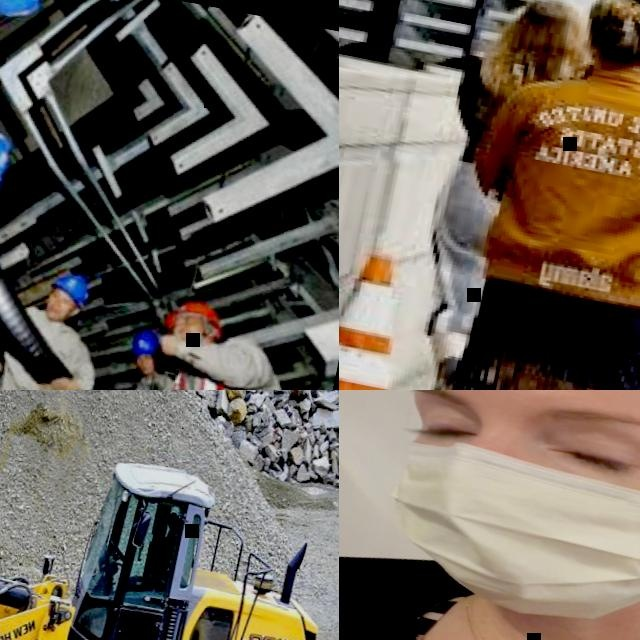Hardhat: (165, 297, 229, 338), (45, 270, 94, 311), (0, 0, 50, 24), (0, 121, 17, 183), (132, 331, 160, 361)
Mask: (372, 435, 640, 640)
NO-Hardhat: (507, 0, 581, 57), (592, 0, 640, 65)
NO-Mask: (177, 325, 212, 348), (45, 305, 66, 322), (141, 359, 159, 377)
NO-Safety Vest: (482, 64, 640, 303), (339, 573, 640, 640), (457, 54, 564, 172), (3, 311, 81, 390), (133, 375, 181, 390)
Person: (397, 0, 640, 390), (387, 0, 604, 390), (339, 390, 640, 640), (568, 0, 640, 390), (85, 281, 339, 390), (0, 263, 134, 390), (123, 329, 198, 390)
Safety Cone: (339, 232, 445, 390)
Safety Vest: (161, 364, 291, 390)
machinery: (0, 394, 339, 640)
